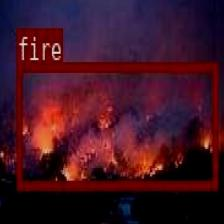fire: (16, 61, 216, 188)
